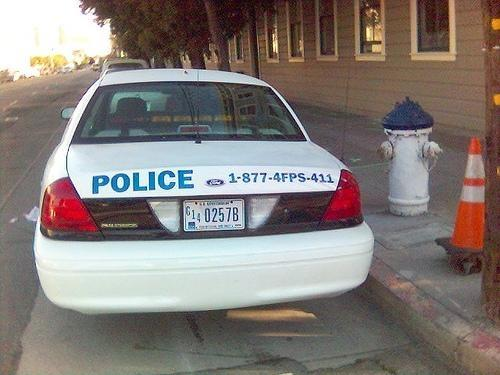car: (32, 68, 377, 316), (90, 57, 152, 88), (90, 63, 100, 71), (63, 66, 72, 73)
